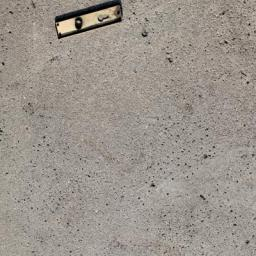FOD: (48, 2, 128, 39)
